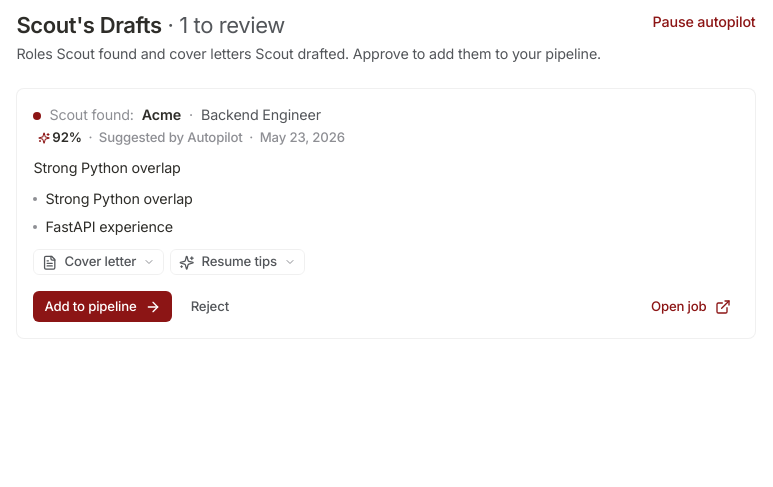
Test case: PendingInboxPage › should render pending opportunity cards with fit score and cover letter
Expected: the element labelled "Acme · Backend Engineer" is shown, [16, 88, 756, 339]
Expected: the element with test id "fit-badge" reads "92%", [52, 129, 82, 145]
Click the button "Cover letter" at (99,262), box [33, 250, 164, 275]
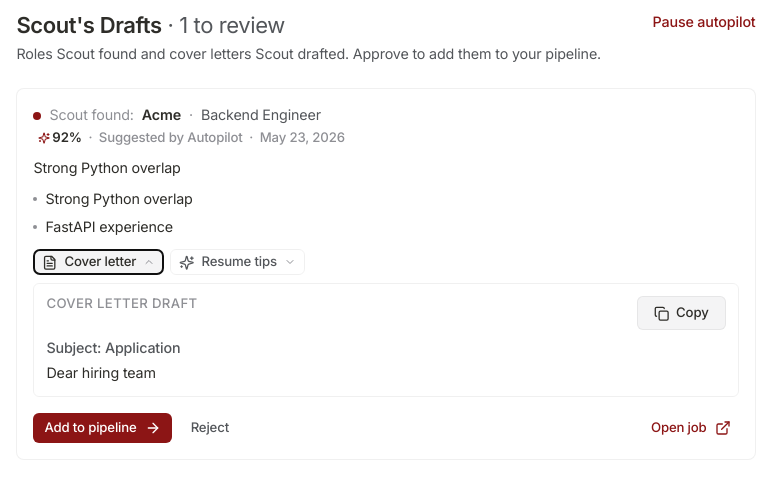
Now the text "Dear hiring team" is shown, box [46, 364, 156, 381]
Click the button "Resume tips" at (238,262), box [170, 250, 304, 275]
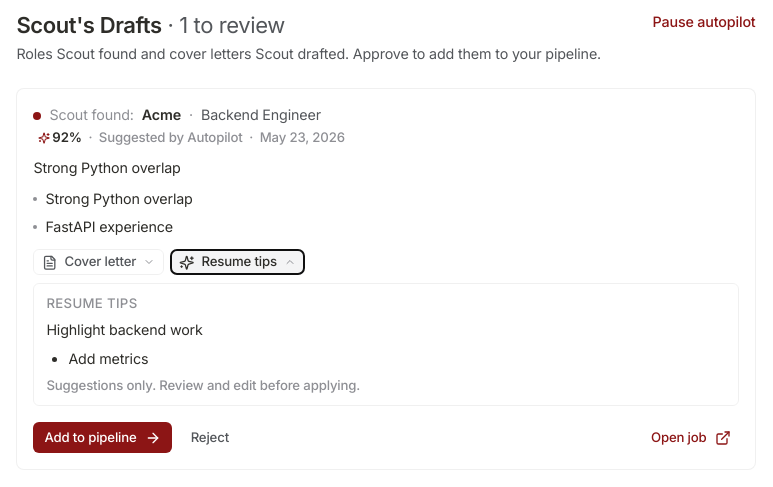
Now the text "Suggestions only. Review and edit before applying." is shown, box [46, 377, 360, 393]
